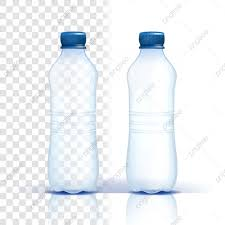available: (123, 27, 185, 199), (46, 26, 105, 197)
